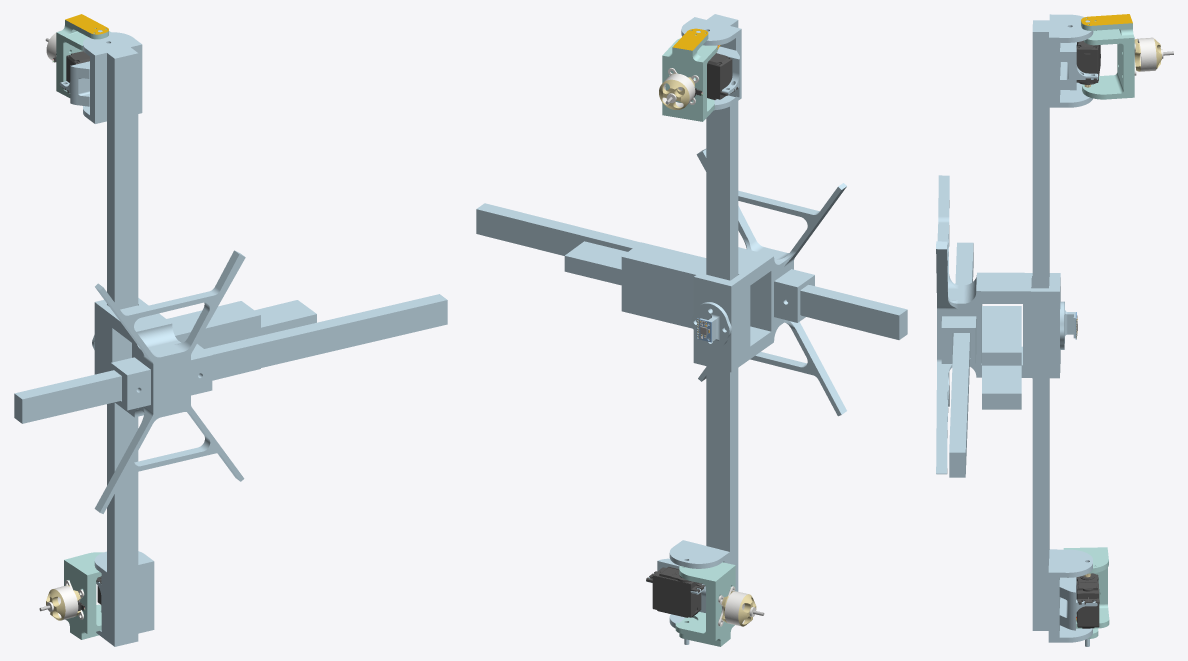
File: vtol_model.glb
3 renders of one model, left to right at view 1: azimuth 30°, elevation 25°; view 2: azimuth 150°, elevation 25°; view 3: azimuth 270°, elevation 25°, orthographic.
Visible parts, largest first — view 1: Node6, Node18, Node17; view 2: Node6, Node18, Node10, Node17, Node20; view 3: Node6, Node18, Node10, Node17, Node19.
Part boxes in pixels (left/top/right/bottom): Node6: left=14, top=30, right=447, bottom=646; Node18: left=56, top=20, right=110, bottom=639; Node17: left=46, top=30, right=84, bottom=620; Node6: left=476, top=14, right=907, bottom=644; Node18: left=662, top=30, right=735, bottom=646; Node10: left=646, top=53, right=737, bottom=617; Node17: left=662, top=68, right=755, bottom=626; Node20: left=659, top=73, right=756, bottom=626; Node6: left=936, top=14, right=1098, bottom=646; Node18: left=1063, top=17, right=1134, bottom=638; Node10: left=1076, top=40, right=1100, bottom=628; Node17: left=1134, top=37, right=1163, bottom=75; Node19: left=1081, top=14, right=1132, bottom=25.
Size of the model in its own units: 450 by 620 by 216.
